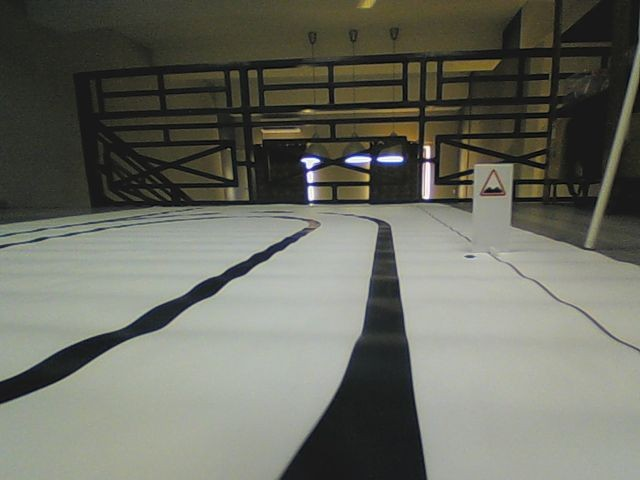Nerov: (478, 169, 506, 197)
